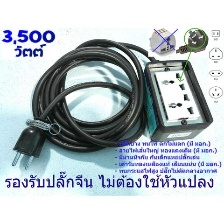three_eye_plug: (136, 55, 214, 145)
